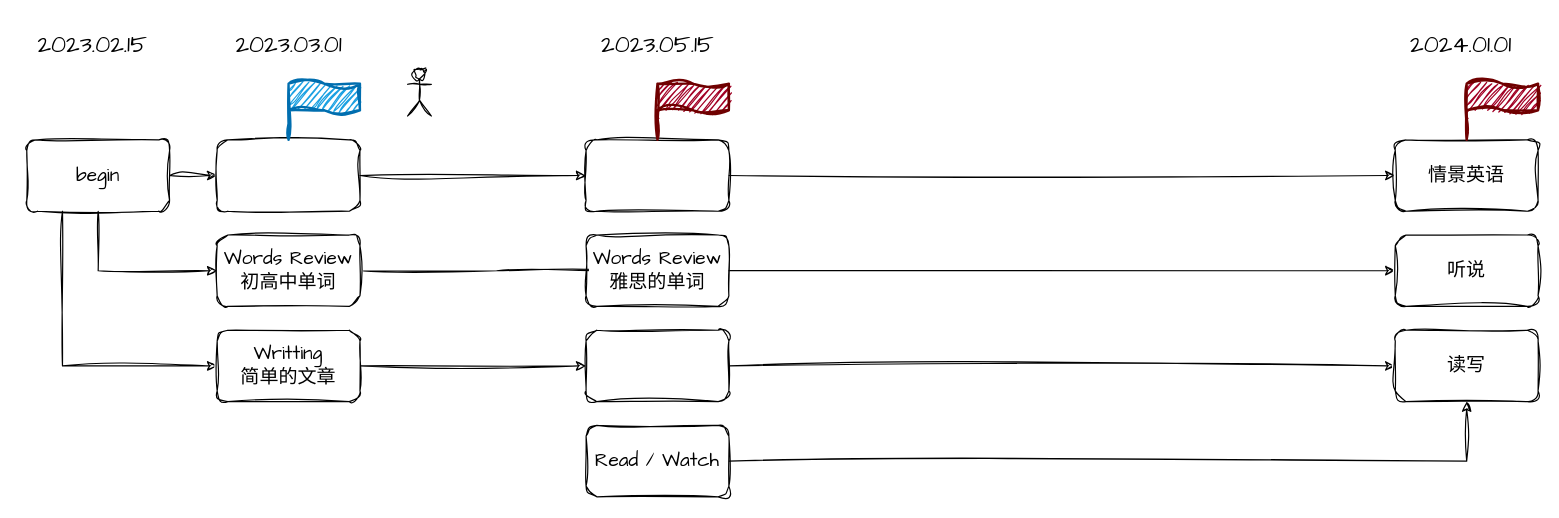
Image size: 1559x518. Some labels were removed from this diagram. Each missing label, with the box of its shape:
Actor: (406, 67, 431, 116)
New Concept 2: (216, 139, 360, 211)
New Concept 3: (585, 139, 729, 211)
Writting 带有长难句: (585, 329, 729, 402)
